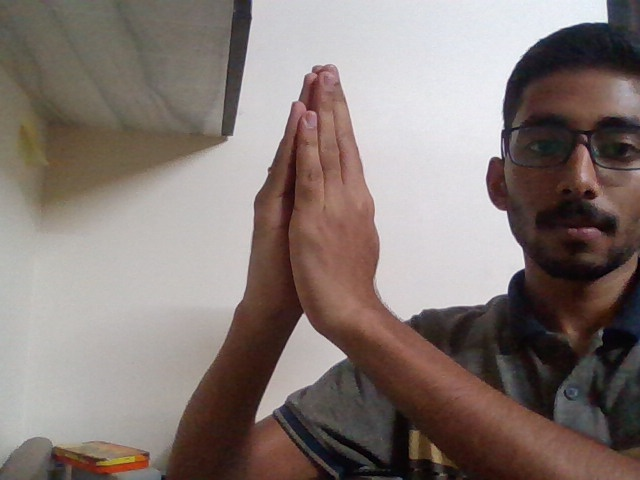Thank You: (233, 49, 401, 356)
